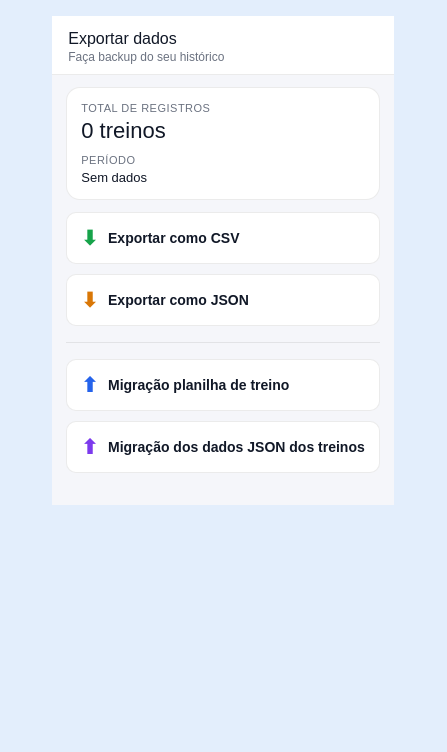
Exportar — Tela de exportação e importação inline › Toggle de importação › clicar novamente oculta a seção de importação
What coordinates should you click on to do the following:
click the button "⬆ Migração planilha de treino"
I would click on:
 (223, 385)
Its box is [66, 359, 380, 411].
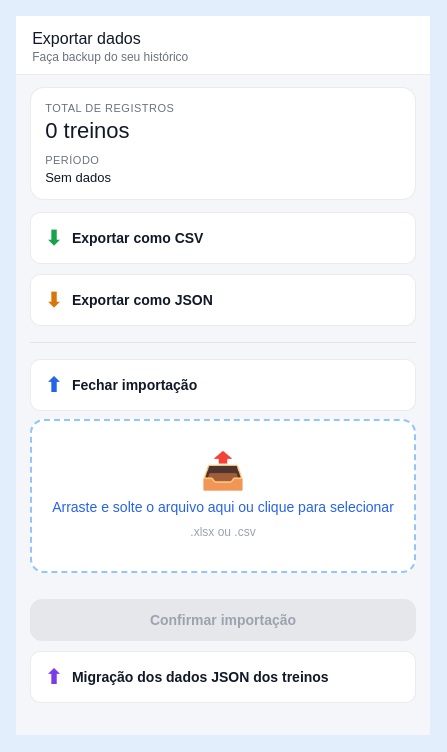
What coordinates should you click on to do the following:
click the button "⬆ Fechar importação"
I would click on:
 (135, 385)
Its box is [30, 359, 416, 411].
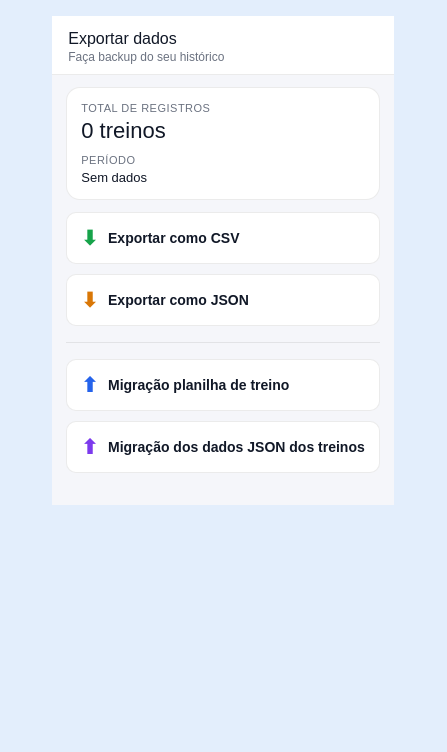
Check: the button "Arraste e solte" is gone
